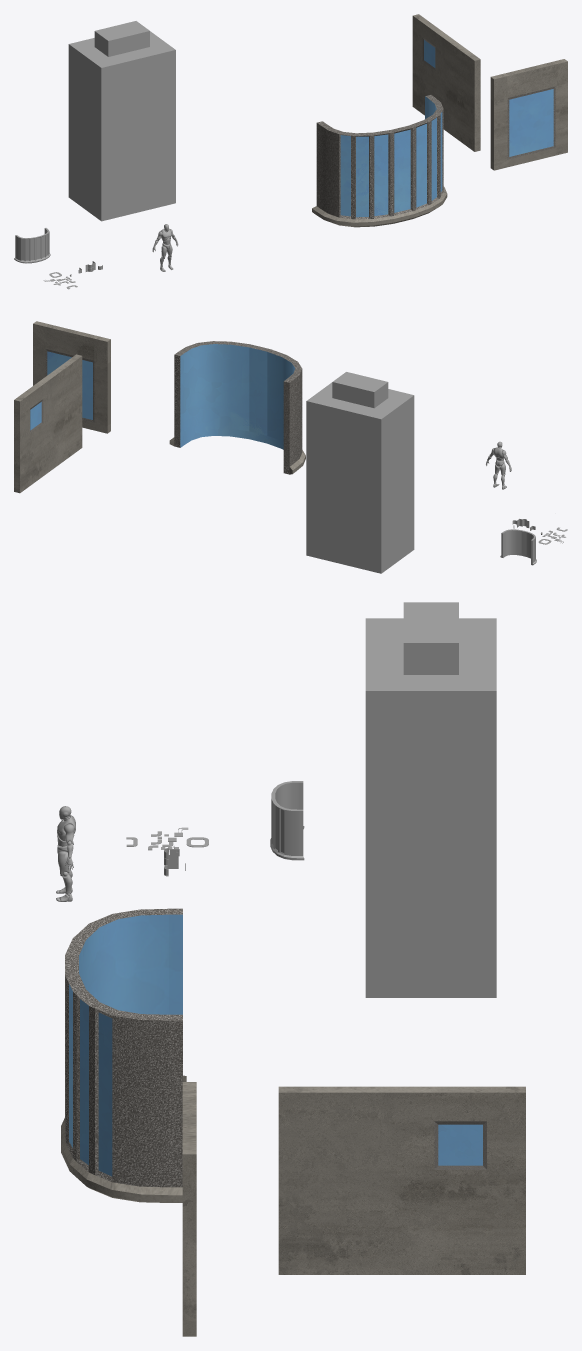
The model's file is building_IP_mmt.fbx.
The picture shows the model from 3 angles, top to bottom: view 1: azimuth 30°, elevation 25°; view 2: azimuth 150°, elevation 25°; view 3: azimuth 270°, elevation 25°; orthographic projection. The views are drawn at different scales.
Parts seen in each view (by area): view 1: pCube54, pCube57, pCube44, pCube52, pCube58, UE4guy:UE4guy_geo; view 2: pCube54, pCube57, pCube52, pCube44, pCube58, UE4guy:UE4guy_geo; view 3: pCube54, pCube52, pCube57, pCube44, pCube58, UE4guy:UE4guy_geo.
Boxes of the visible parts, bbox=[...] form: pCube54: bbox=[68, 21, 175, 221]; pCube57: bbox=[312, 95, 447, 227]; pCube44: bbox=[490, 59, 567, 170]; pCube52: bbox=[412, 14, 480, 151]; pCube58: bbox=[14, 228, 50, 263]; UE4guy:UE4guy_geo: bbox=[152, 224, 178, 271]; pCube54: bbox=[306, 372, 414, 573]; pCube57: bbox=[169, 341, 305, 474]; pCube52: bbox=[14, 354, 82, 493]; pCube44: bbox=[33, 321, 110, 433]; pCube58: bbox=[500, 529, 536, 565]; UE4guy:UE4guy_geo: bbox=[486, 441, 511, 489]; pCube54: bbox=[365, 602, 496, 997]; pCube52: bbox=[278, 1086, 525, 1274]; pCube57: bbox=[61, 908, 186, 1202]; pCube44: bbox=[182, 1082, 196, 1336]; pCube58: bbox=[270, 781, 304, 860]; UE4guy:UE4guy_geo: bbox=[56, 806, 75, 901].
Bounding box in the file's own units: 2223 × 696 × 864.
